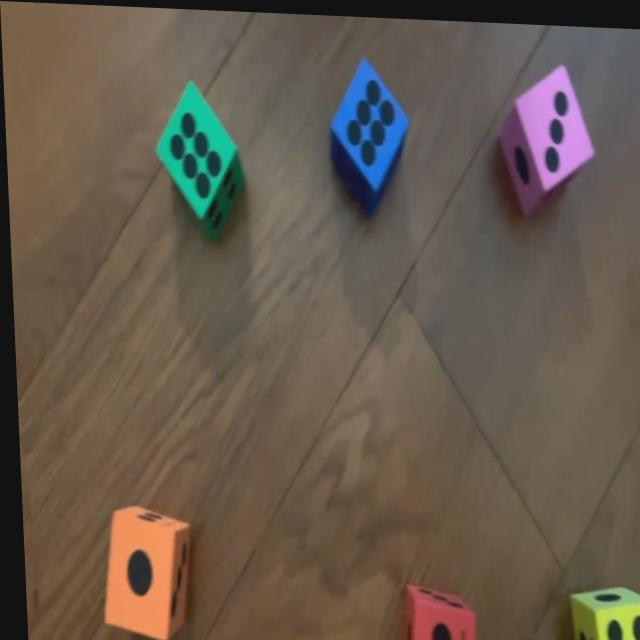blue_block: (324, 50, 413, 213)
red_block: (392, 579, 470, 640)
